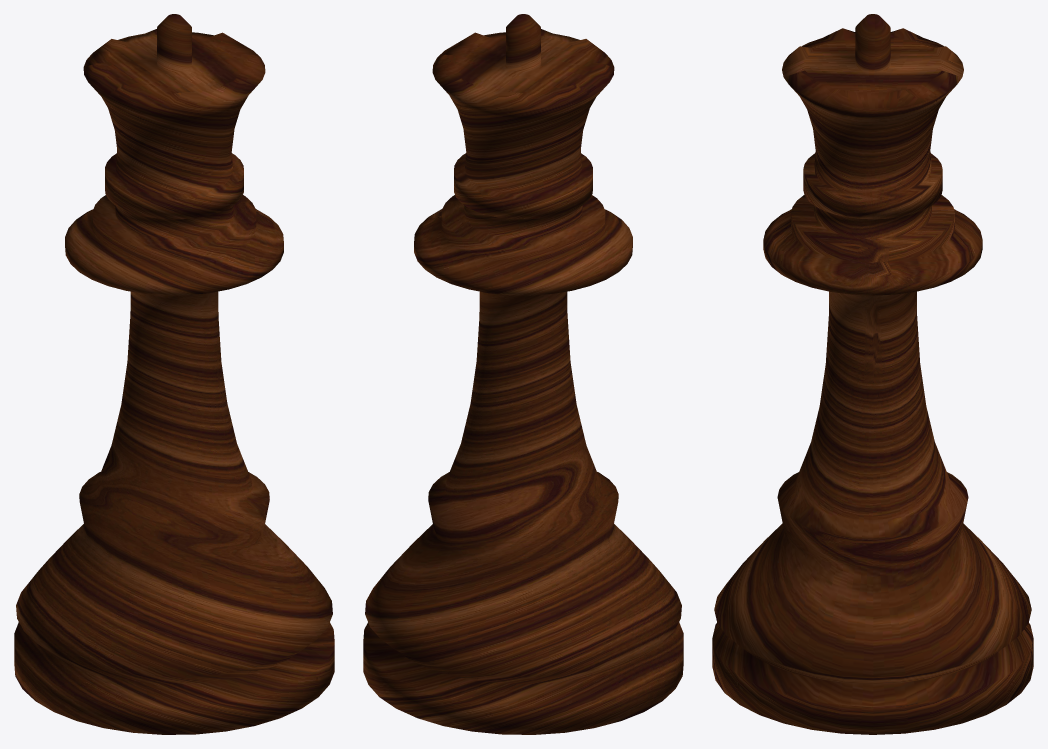
The model's file is queen.obj.
The picture shows the model from 3 angles, left to right: view 1: azimuth 30°, elevation 25°; view 2: azimuth 150°, elevation 25°; view 3: azimuth 270°, elevation 25°; orthographic projection.
Visible parts, largest first — view 1: queen.001_Cylinder.008; view 2: queen.001_Cylinder.008; view 3: queen.001_Cylinder.008.
Boxes of the visible parts, x1,y1,x2,y2 form: queen.001_Cylinder.008: (14,14,334,734); queen.001_Cylinder.008: (363,14,683,734); queen.001_Cylinder.008: (712,14,1033,734).
Bounding box in the file's own units: 1.25 × 2.79 × 1.25.
